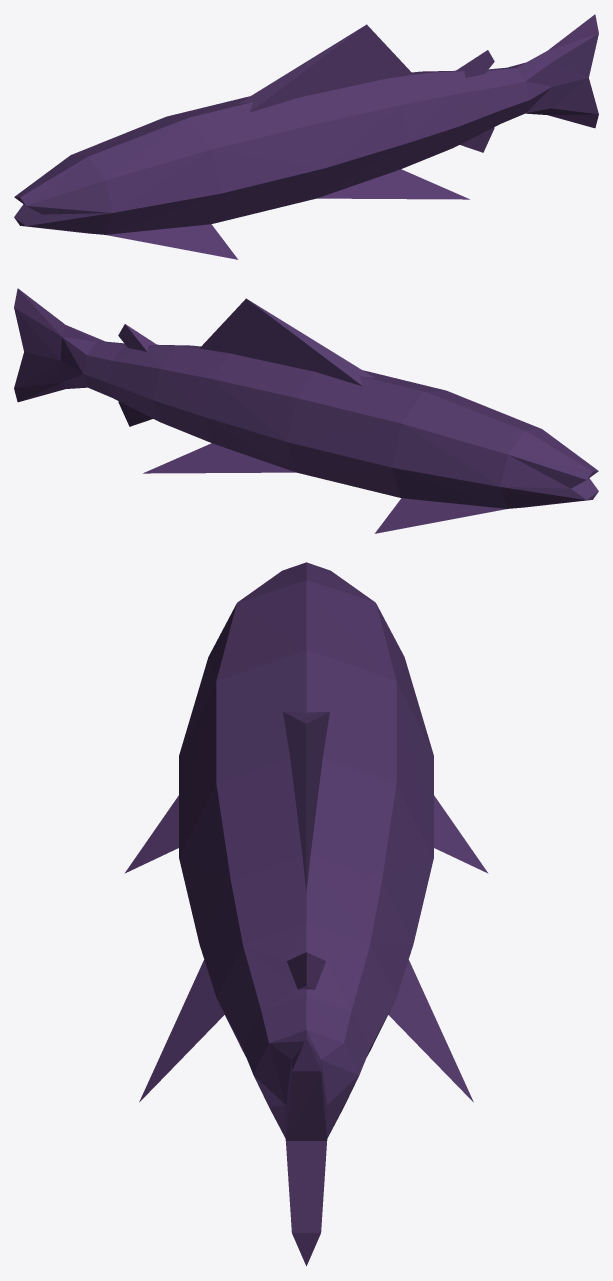
The model's file is fish-large-lilac.glb.
3 renders of one model, top to bottom at view 1: azimuth 30°, elevation 25°; view 2: azimuth 150°, elevation 25°; view 3: azimuth 270°, elevation 25°, orthographic. The views are drawn at different scales.
Parts seen in each view (by area): view 1: fish-large-lilac; view 2: fish-large-lilac; view 3: fish-large-lilac.
Boxes of the visible parts, x1,y1,x2,y2 form: fish-large-lilac: (14, 14, 598, 259); fish-large-lilac: (14, 288, 598, 533); fish-large-lilac: (124, 562, 488, 1266).
Size of the model in its own units: 1.13 by 0.3 by 0.31.
